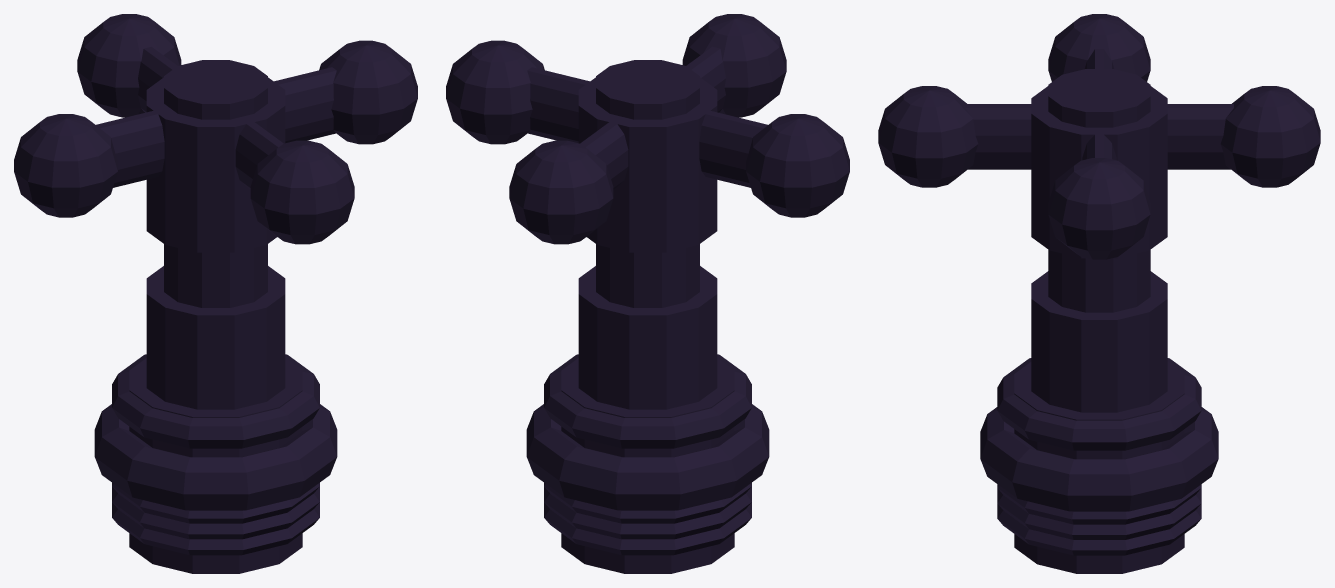
File: registro_torneira.gltf
The picture shows the model from 3 angles, left to right: view 1: azimuth 30°, elevation 25°; view 2: azimuth 150°, elevation 25°; view 3: azimuth 270°, elevation 25°; orthographic projection.
Parts seen in each view (by area): view 1: cylinder (×9), torus (×5), sphere (×4); view 2: cylinder (×9), torus (×5), sphere (×4); view 3: cylinder (×8), torus (×5), sphere (×4).
Part boxes in pixels (x1=…): cylinder (×9): x1=96, y1=46, x2=336, y2=573; torus (×5): x1=94, y1=354, x2=337, y2=555; sphere (×4): x1=14, y1=14, x2=417, y2=244; cylinder (×9): x1=527, y1=46, x2=767, y2=573; torus (×5): x1=526, y1=354, x2=769, y2=555; sphere (×4): x1=446, y1=14, x2=849, y2=244; cylinder (×8): x1=965, y1=69, x2=1233, y2=573; torus (×5): x1=980, y1=358, x2=1218, y2=555; sphere (×4): x1=878, y1=14, x2=1320, y2=259.
Size of the model in its own units: 0.1625 by 0.1813 by 0.1625.
1 material, 1 textured.
